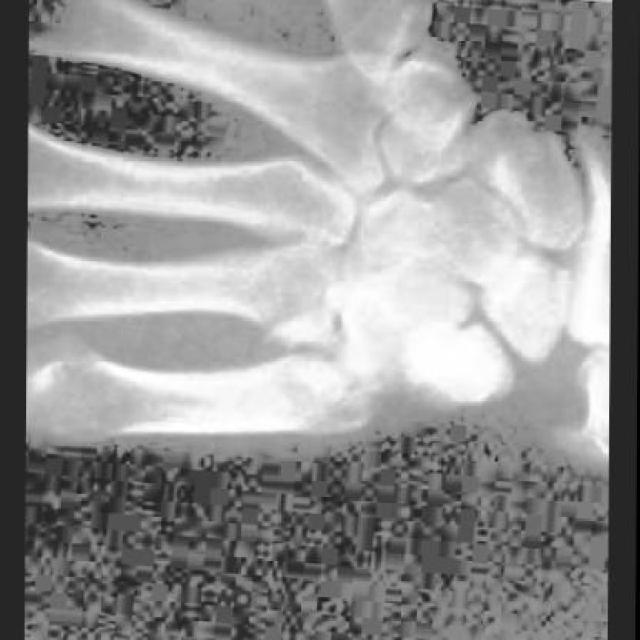Fracture: (255, 311, 376, 419)
